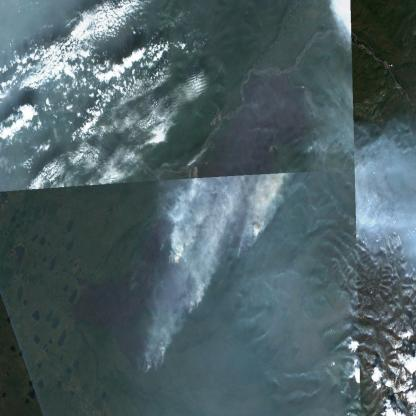fire: (232, 222, 262, 267), (132, 348, 168, 377), (186, 289, 212, 314), (162, 238, 184, 267)
